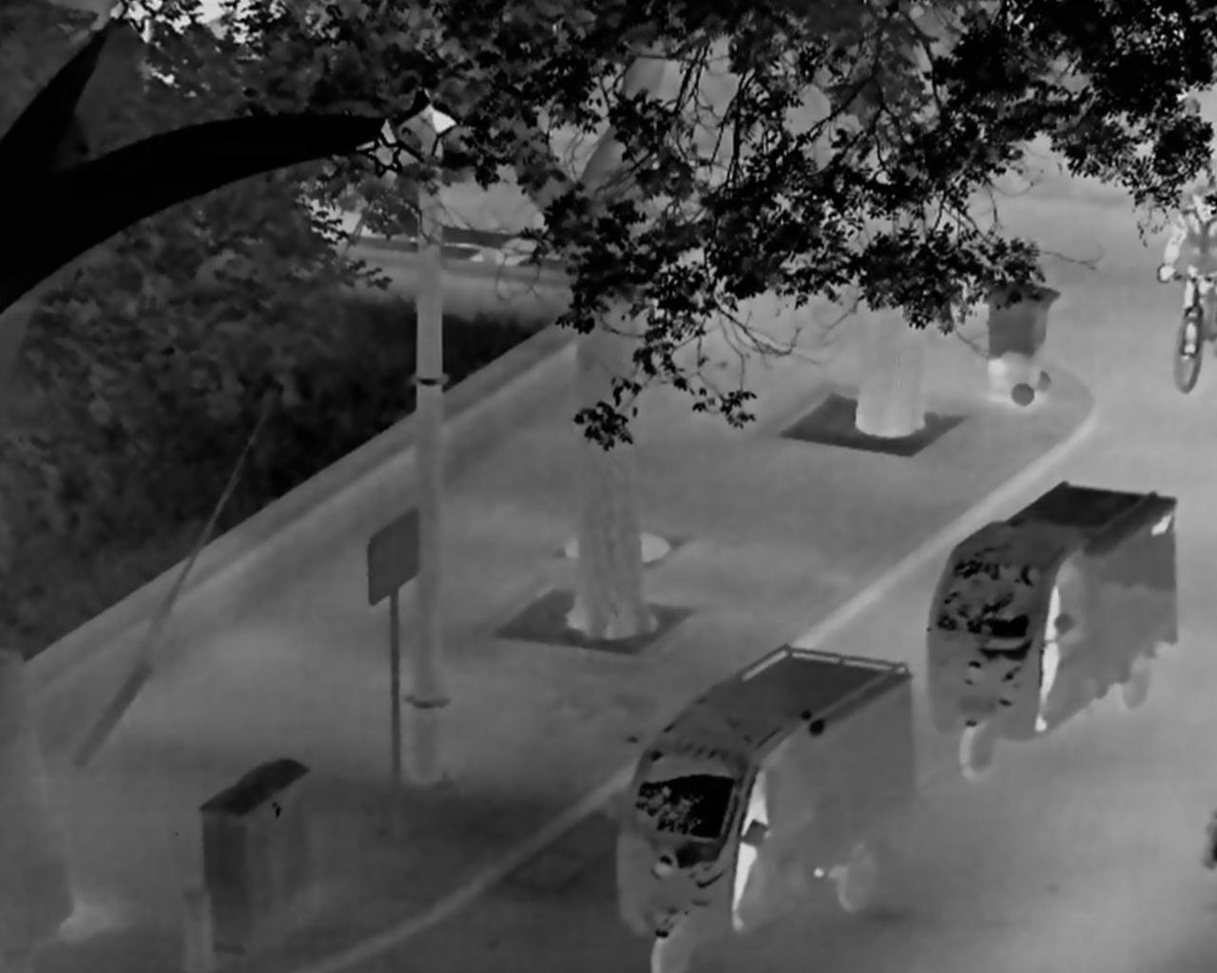person: (1158, 186, 1217, 354), (721, 778, 772, 934), (1032, 582, 1061, 732)
